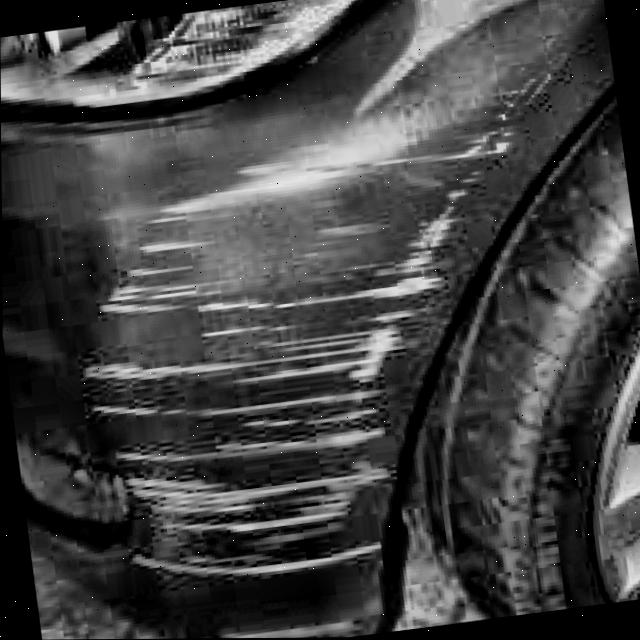bumper_scratch: (60, 122, 573, 593)
